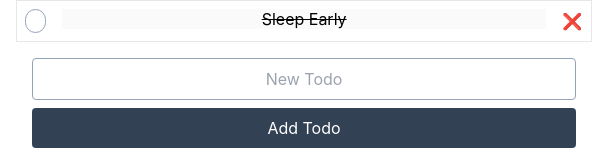
TodoListPage › deleting todos › optimistically deletes the Todo
Expected: the number of list items named "todo-item" is 1, [16,0,592,42]
What coordinates should you click on to do the following:
click the button "❌"
I would click on:
 (572, 21)
Its box is [562,9,582,33].
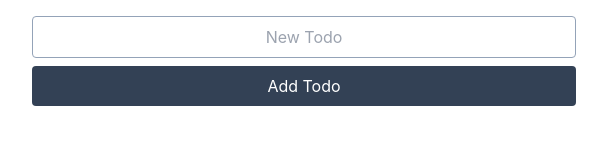
Expected: no list items "todo-item" are shown
